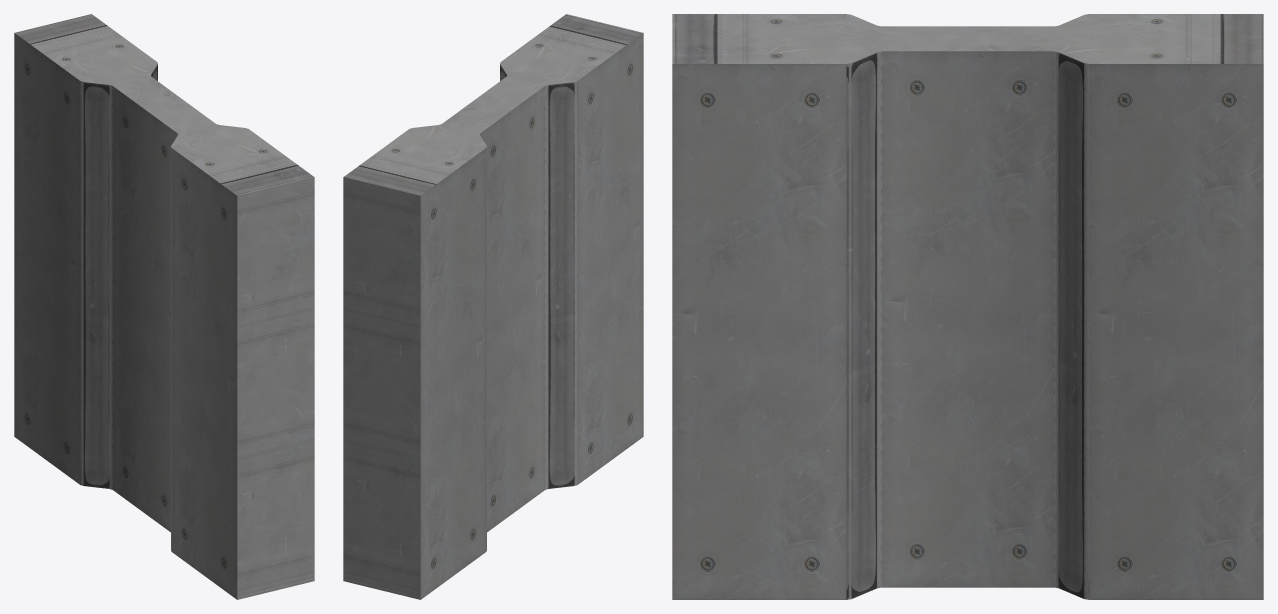
File: SM_WallS13.fbx
The picture shows the model from 3 angles, left to right: view 1: azimuth 30°, elevation 25°; view 2: azimuth 150°, elevation 25°; view 3: azimuth 270°, elevation 25°; orthographic projection. The views are drawn at different scales.
Parts seen in each view (by area): view 1: SM_WallS13_LOD0; view 2: SM_WallS13_LOD0; view 3: SM_WallS13_LOD0.
Boxes of the visible parts, <box> form: SM_WallS13_LOD0: <box>14,14,314,599</box>; SM_WallS13_LOD0: <box>343,14,643,599</box>; SM_WallS13_LOD0: <box>672,14,1263,599</box>.
Size of the model in its own units: 80 by 400 by 400.
